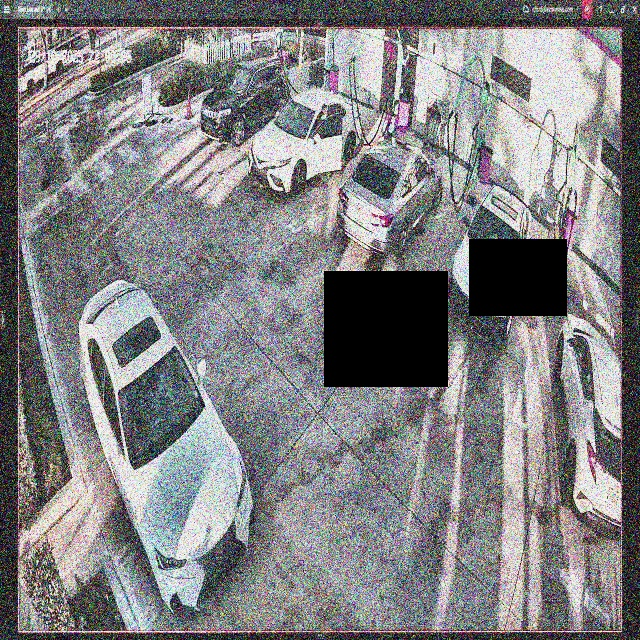Car: (75, 278, 254, 607), (448, 185, 551, 348), (338, 143, 440, 261), (249, 90, 360, 193), (201, 65, 288, 156)
